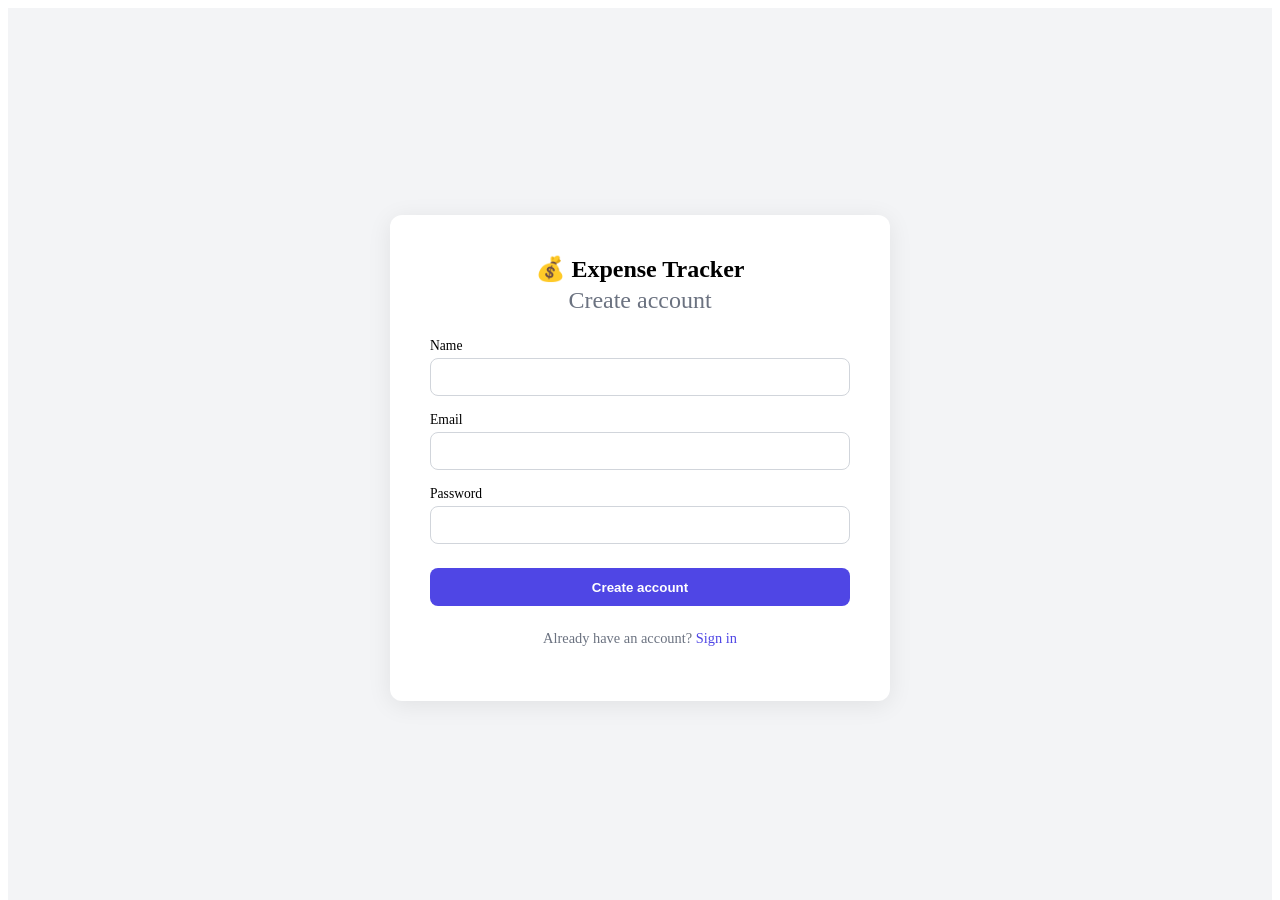
Scenario: RegisterPage › shows validation errors when the form is submitted empty
This screenshot has width=1280, height=900.
Click the button "Create account".
click(640, 587)  # box x1=430 y1=568 x2=850 y2=606
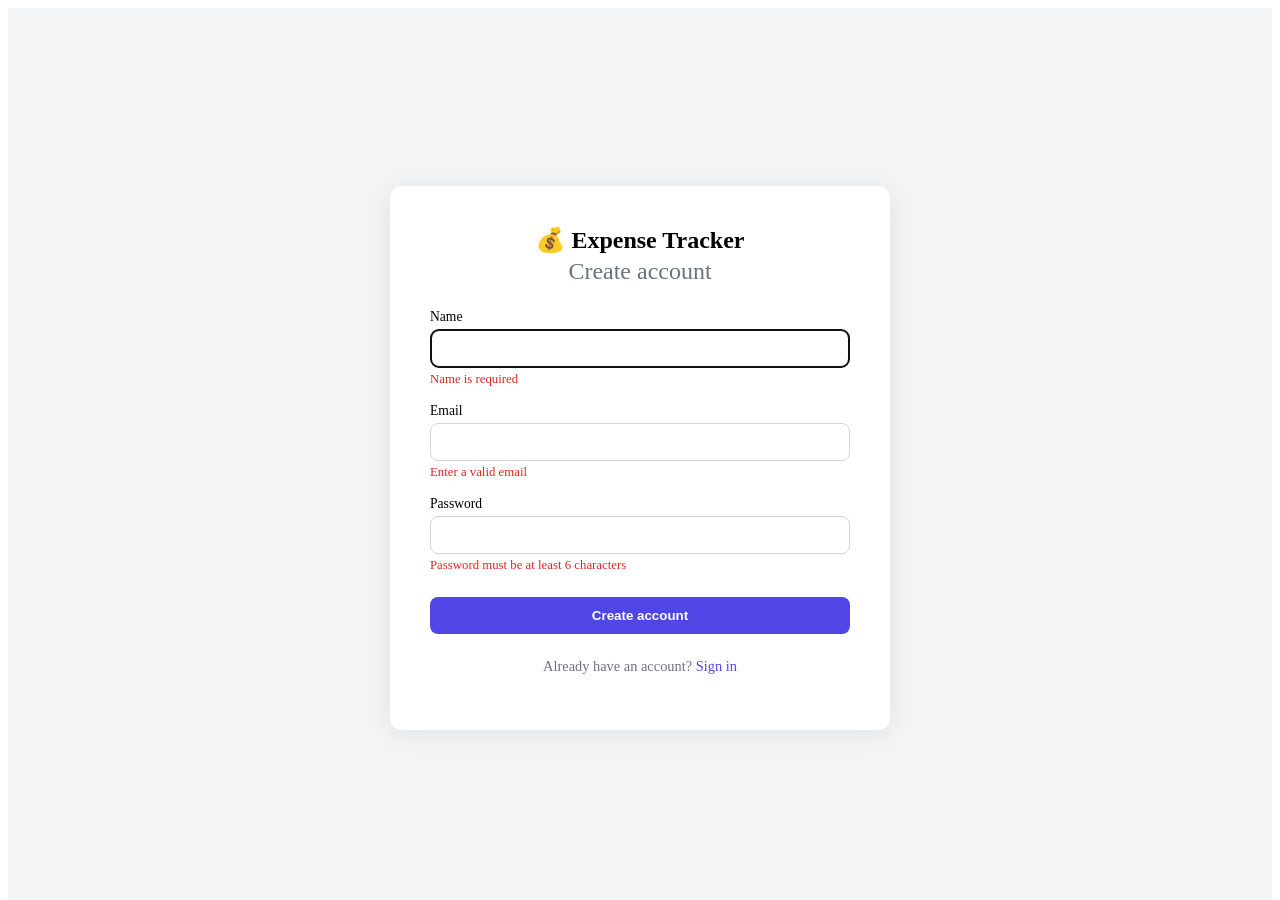
Check: the text "Name is required" is shown, box x1=430 y1=372 x2=518 y2=386
Check: the text "Enter a valid email" is shown, box x1=430 y1=465 x2=527 y2=479
Check: the text "Password must be at least 6 characters" is shown, box x1=430 y1=558 x2=626 y2=572
